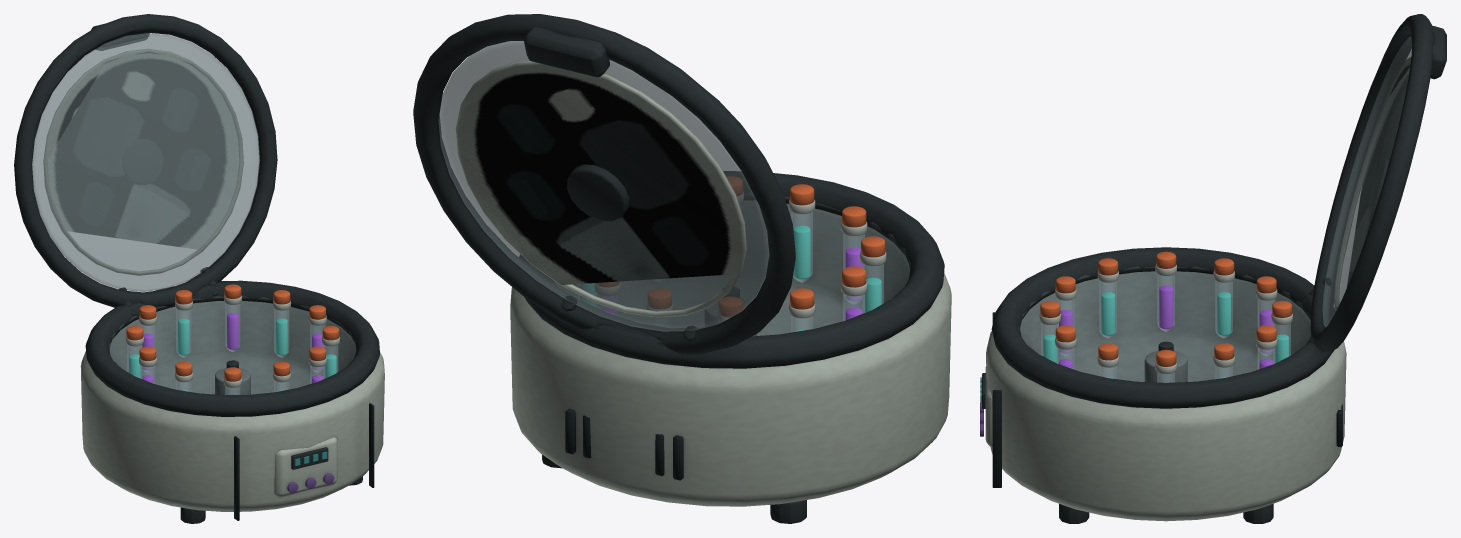
Rendered from centrifuge.glb.
The picture shows the model from 3 angles, left to right: view 1: azimuth 30°, elevation 25°; view 2: azimuth 150°, elevation 25°; view 3: azimuth 270°, elevation 25°; orthographic projection. The views are drawn at different scales.
Parts seen in each view (by area): view 1: Lid smoky window, Centrifuge body, Lid raised ring, Lid outer frame, Thick rubber opening, Control module, Lid central fitting, Rounded glass tube 01, Rounded glass tube 03, Rounded glass tube 02, Rotor hub, Front casing seam.001 (+6 smaller); view 2: Centrifuge body, Lid raised ring, Lid outer frame, Lid smoky window, Thick rubber opening, Lid handle, Lid central fitting, Rounded glass tube 09, Visible liquid 09, Rounded glass tube 07, Rubber foot.001, Rounded glass tube 08; view 3: Centrifuge body, Thick rubber opening, Lid outer frame, Lid smoky window, Lid raised ring, Rounded glass tube 05, Rounded glass tube 07, Front casing seam.001, Rounded glass tube 06, Rotor hub, Lid handle, Visible liquid 07 (+4 smaller).
Part boxes in pixels (bbox=[...]): Lid smoky window: bbox=[32, 33, 260, 291]; Centrifuge body: bbox=[80, 300, 384, 511]; Lid raised ring: bbox=[43, 49, 243, 275]; Lid outer frame: bbox=[14, 14, 277, 307]; Thick rubber opening: bbox=[85, 280, 379, 416]; Control module: bbox=[274, 437, 337, 497]; Lid central fitting: bbox=[122, 139, 162, 184]; Rounded glass tube 01: bbox=[274, 309, 289, 357]; Rounded glass tube 03: bbox=[176, 309, 191, 357]; Rounded glass tube 02: bbox=[225, 303, 240, 351]; Rotor hub: bbox=[215, 368, 250, 395]; Front casing seam.001: bbox=[369, 403, 374, 487]; Centrifuge body: bbox=[510, 200, 951, 506]; Lid raised ring: bbox=[455, 60, 746, 317]; Lid outer frame: bbox=[413, 14, 795, 354]; Lid smoky window: bbox=[438, 41, 769, 331]; Thick rubber opening: bbox=[519, 171, 944, 368]; Lid handle: bbox=[523, 26, 609, 77]; Lid central fitting: bbox=[567, 164, 629, 221]; Rounded glass tube 09: bbox=[791, 212, 812, 282]; Visible liquid 09: bbox=[793, 225, 810, 278]; Rounded glass tube 07: bbox=[862, 264, 883, 313]; Rubber foot.001: bbox=[770, 500, 806, 523]; Rounded glass tube 08: bbox=[843, 233, 864, 304]; Centrifuge body: bbox=[986, 271, 1346, 521]; Thick rubber opening: bbox=[991, 247, 1335, 408]; Lid outer frame: bbox=[1310, 14, 1434, 351]; Lid smoky window: bbox=[1322, 37, 1411, 327]; Lid raised ring: bbox=[1334, 57, 1411, 310]; Rounded glass tube 05: bbox=[1215, 281, 1232, 338]; Rounded glass tube 07: bbox=[1099, 280, 1116, 338]; Front casing seam.001: bbox=[992, 390, 1001, 487]; Rounded glass tube 06: bbox=[1157, 274, 1174, 331]; Rotor hub: bbox=[1144, 350, 1187, 382]; Lid handle: bbox=[1430, 26, 1446, 79]; Visible liquid 07: bbox=[1101, 292, 1115, 335].
Size of the model in its own units: 0.4696 by 0.6351 by 0.6081.
5 materials, 1 textured.
